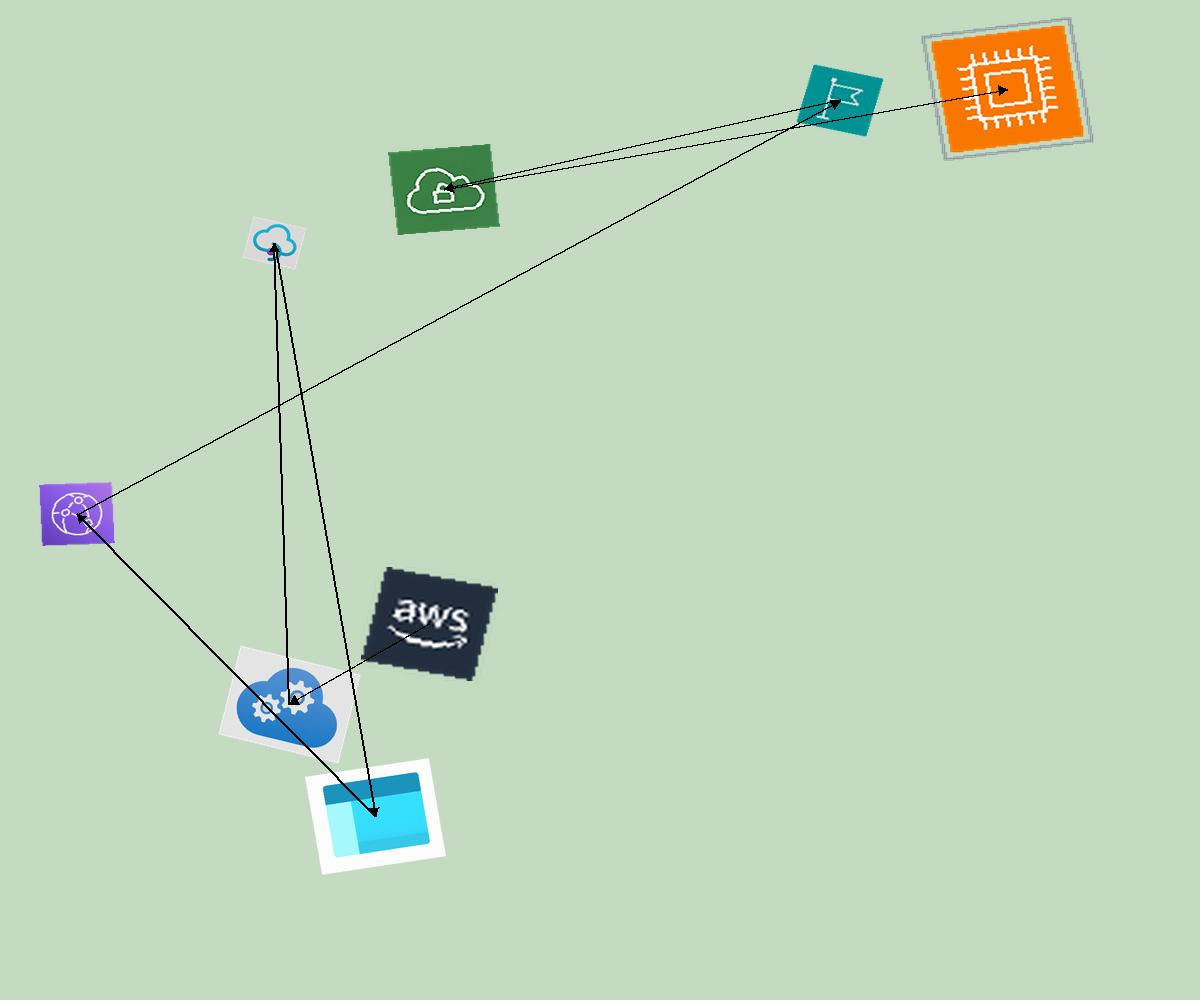AWS-Category_Compute: (920, 16, 1095, 162)
AWS-Cloud-logo: (361, 567, 498, 681)
AWS-CloudFront: (39, 482, 115, 546)
AWS-Private_vpc: (388, 143, 500, 236)
AWS-Region: (796, 64, 884, 137)
Azure_api_gateway: (242, 216, 307, 270)
Azure_cloud_services: (218, 645, 361, 764)
Azure_management-portal: (305, 758, 446, 875)
